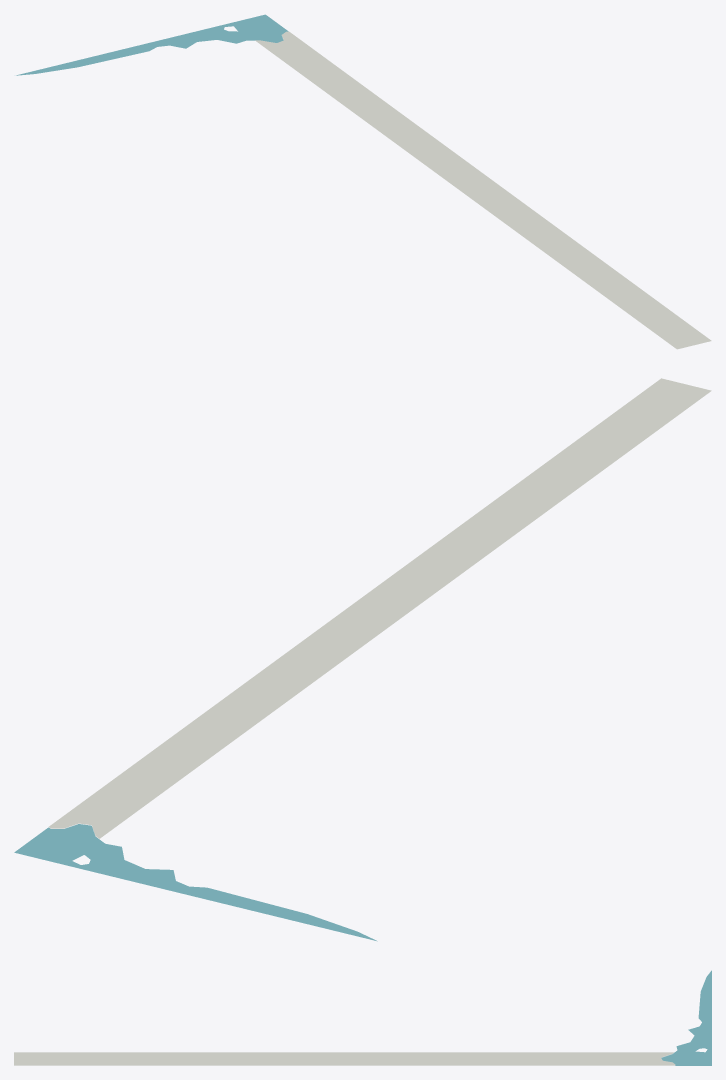
3 renders of one model, top to bottom at view 1: azimuth 30°, elevation 25°; view 2: azimuth 150°, elevation 25°; view 3: azimuth 270°, elevation 25°, orthographic. The views are drawn at different scales.
Parts seen in each view (by area): view 1: city; view 2: city; view 3: city.
Part boxes in pixels (bbox=[...]): city: bbox=[16, 14, 711, 349]; city: bbox=[14, 378, 711, 941]; city: bbox=[14, 970, 711, 1065].
Size of the model in its own units: 163 by 0.18 by 500.
